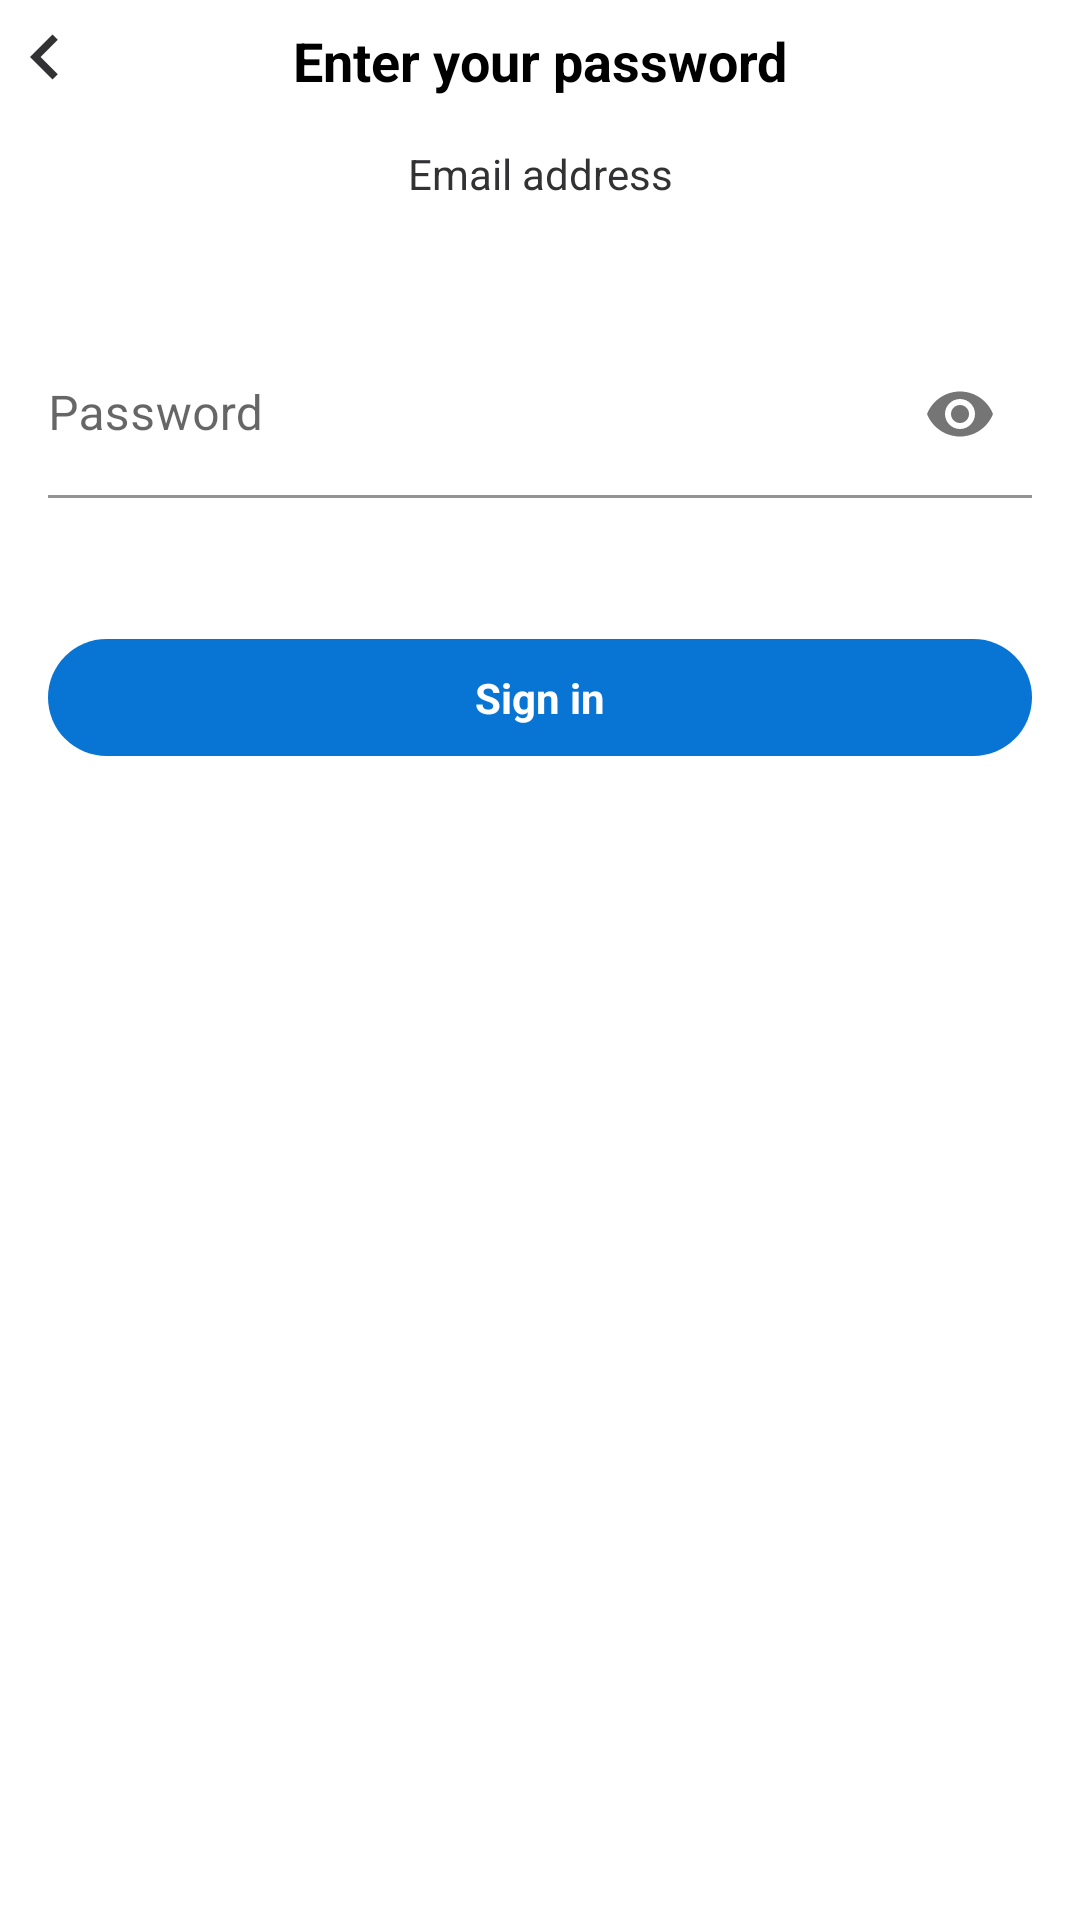

Point at icon controls on the screen. Image size 1080*1920, points as (x,y).
arrow left: (44,57)
